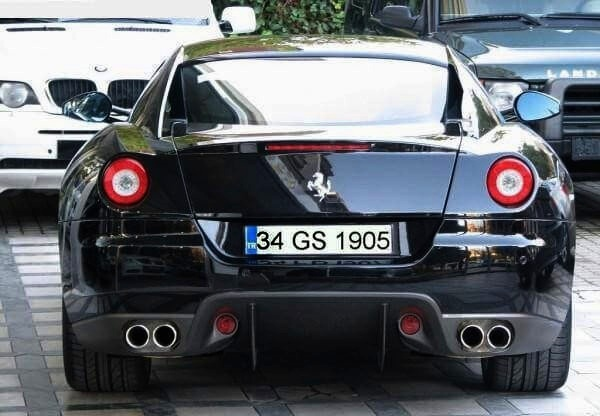plaka: (253, 218, 398, 262)
